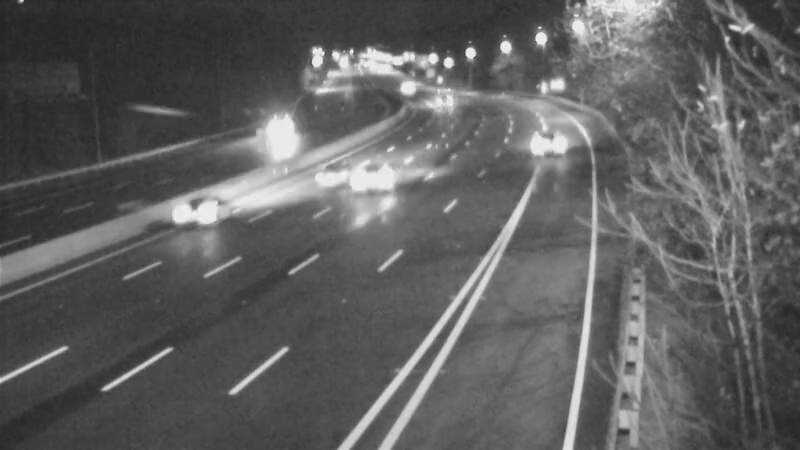vehicle: (342, 129, 422, 209), (291, 137, 371, 217), (163, 172, 243, 252), (377, 62, 427, 112), (416, 74, 466, 124), (522, 113, 572, 163), (253, 105, 303, 155)
